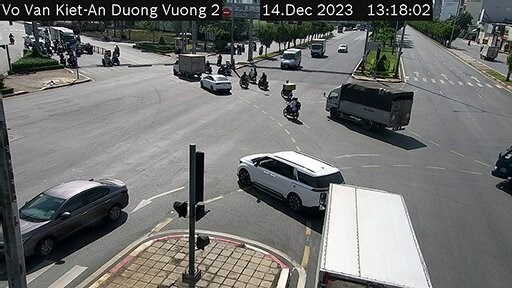car: (4, 174, 132, 265), (225, 147, 346, 215), (203, 73, 228, 93), (339, 43, 348, 53)
motorbike: (287, 98, 302, 121), (281, 76, 295, 100), (258, 69, 269, 91), (97, 54, 112, 69), (237, 71, 251, 87), (112, 51, 119, 68)
truck: (314, 181, 433, 288), (326, 69, 415, 135), (170, 49, 205, 77), (307, 37, 331, 60), (282, 49, 301, 66)
